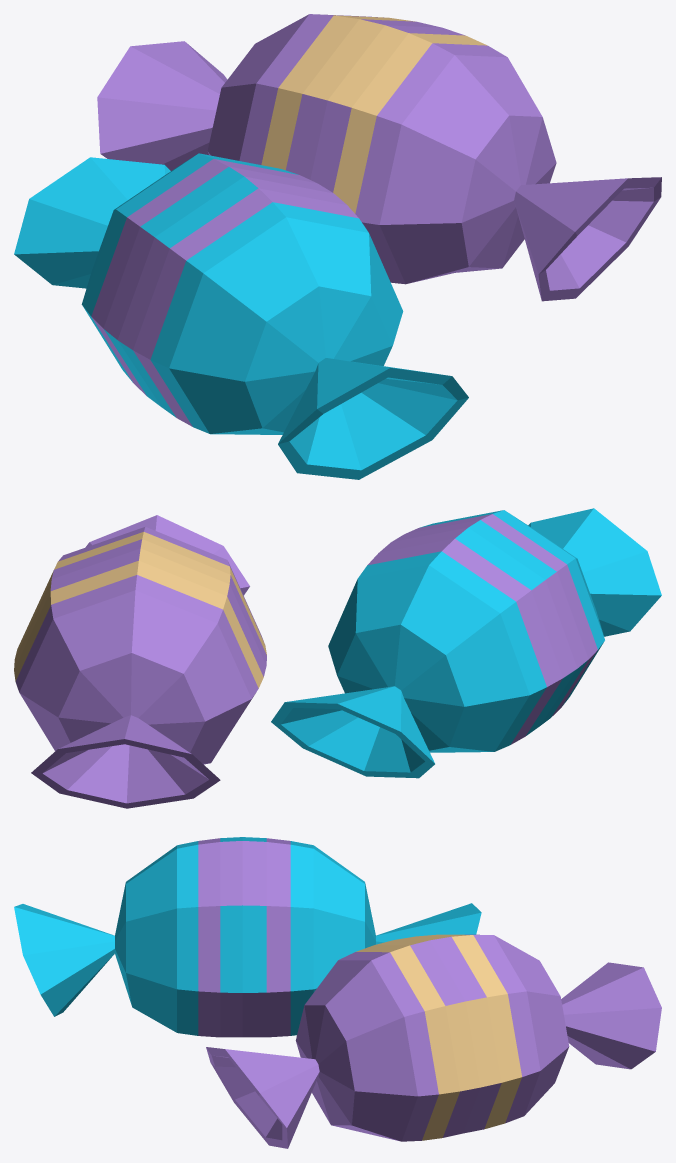
File: candy.glb
The picture shows the model from 3 angles, top to bottom: view 1: azimuth 30°, elevation 25°; view 2: azimuth 150°, elevation 25°; view 3: azimuth 270°, elevation 25°; orthographic projection. The views are drawn at different scales.
Visible parts, largest first — view 1: buffer-0-mesh-0_1, buffer-0-mesh-0_0, buffer-0-mesh-0_2; view 2: buffer-0-mesh-0_1, buffer-0-mesh-0_0, buffer-0-mesh-0_2; view 3: buffer-0-mesh-0_1, buffer-0-mesh-0_0, buffer-0-mesh-0_2.
Part boxes in pixels (box(x1,y1,x2,y2)): buffer-0-mesh-0_1: box(91, 14, 661, 426); buffer-0-mesh-0_0: box(14, 153, 468, 479); buffer-0-mesh-0_2: box(261, 15, 487, 213); buffer-0-mesh-0_1: box(15, 514, 597, 808); buffer-0-mesh-0_0: box(271, 508, 661, 778); buffer-0-mesh-0_2: box(14, 532, 266, 688); buffer-0-mesh-0_1: box(198, 838, 661, 1148); buffer-0-mesh-0_0: box(14, 837, 481, 1035); buffer-0-mesh-0_2: box(356, 934, 521, 1140).
Bounding box in the file's own units: 1.58 × 0.6113 × 1.98.
